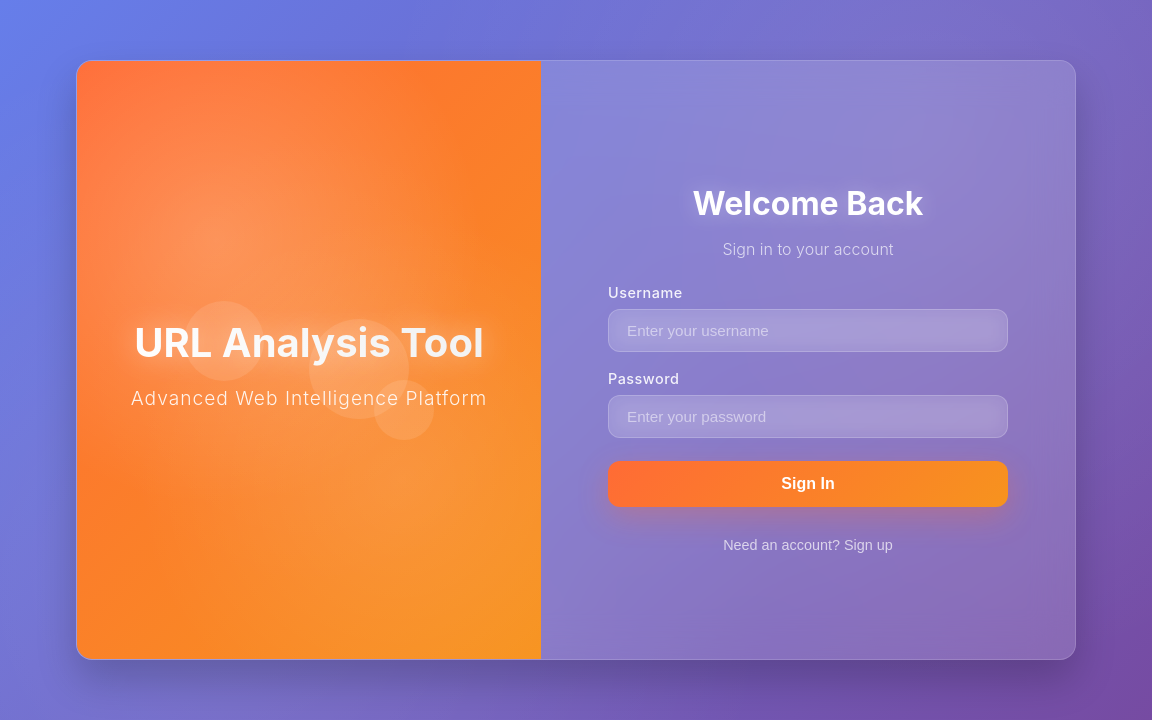
AuthForm › shows validation error for short password on register
Note: Switch to register form
Click the button "Need an account? Sign up". click: (808, 545)
box: [713, 527, 903, 563]
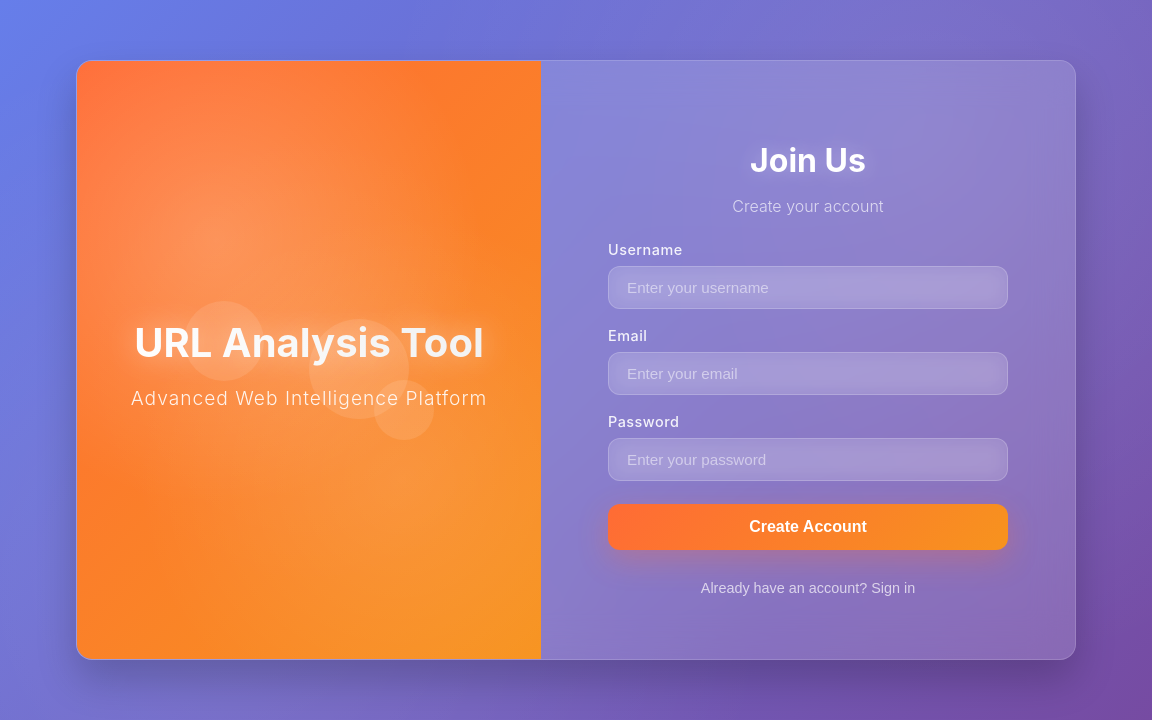
Type "testuser" into the field with placeholder "Enter your username". click: (808, 287)
box: [608, 266, 1008, 309]
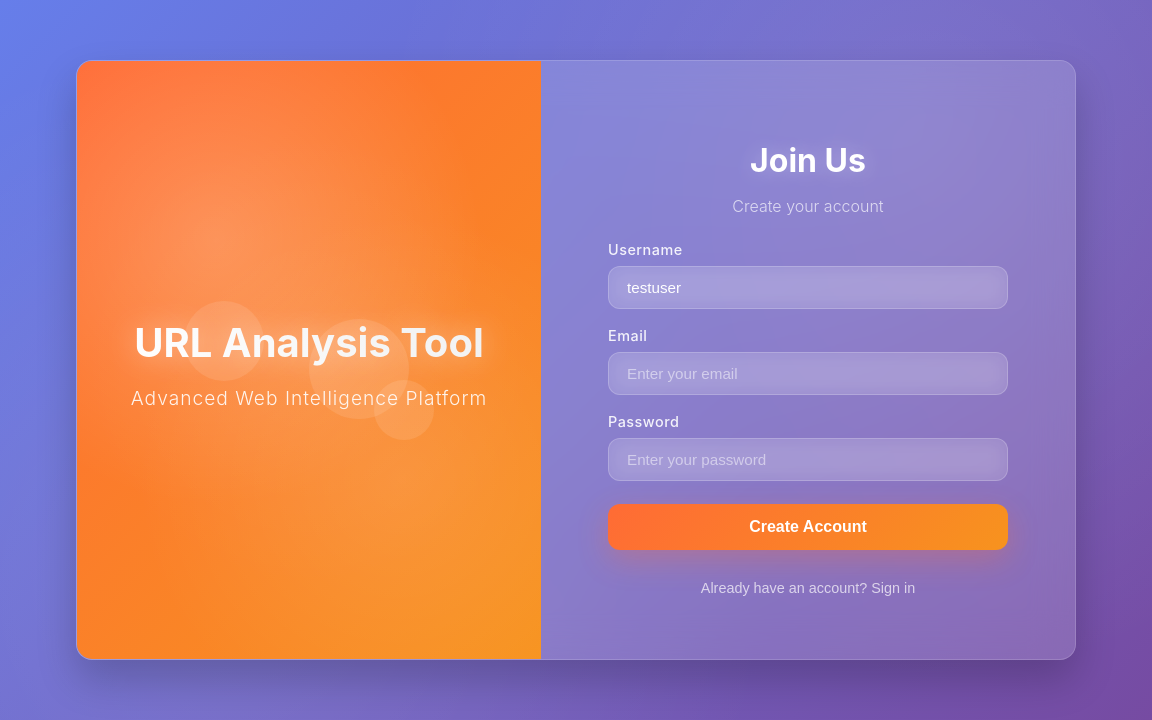
Type "test@example.com" into the field with placeholder "Enter your email". click: (808, 373)
box: [608, 352, 1008, 395]
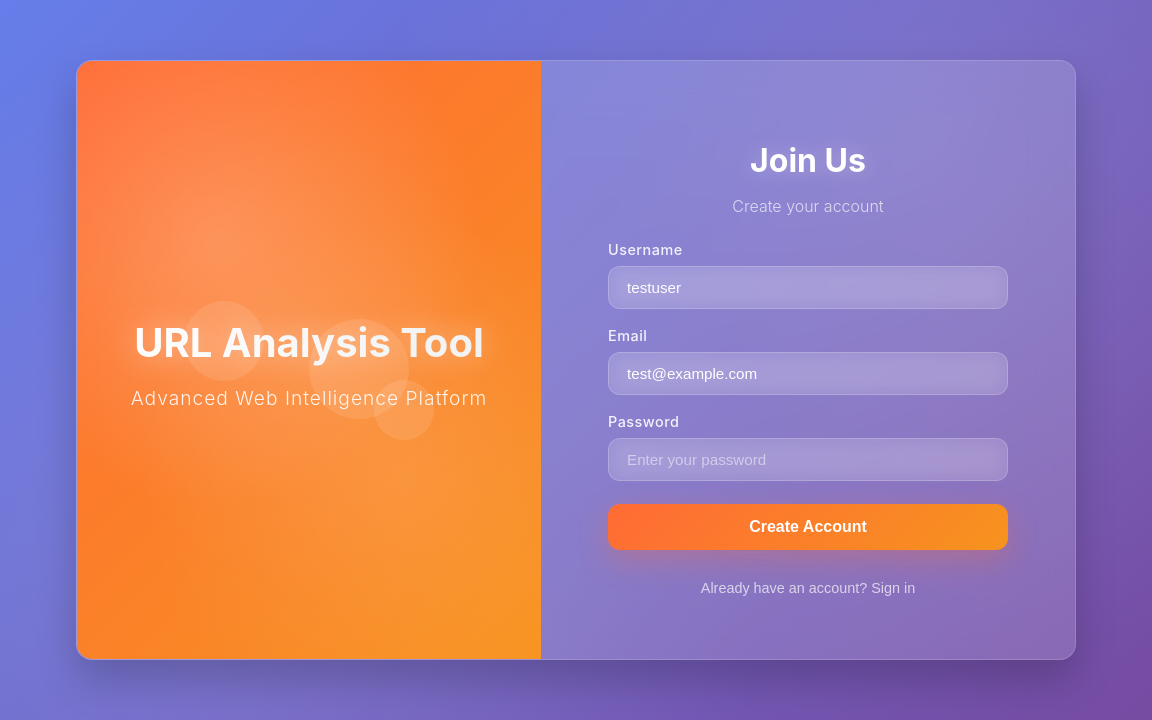
Type "123" into the password field with placeholder "Enter your password". click: (808, 459)
box: [608, 438, 1008, 481]
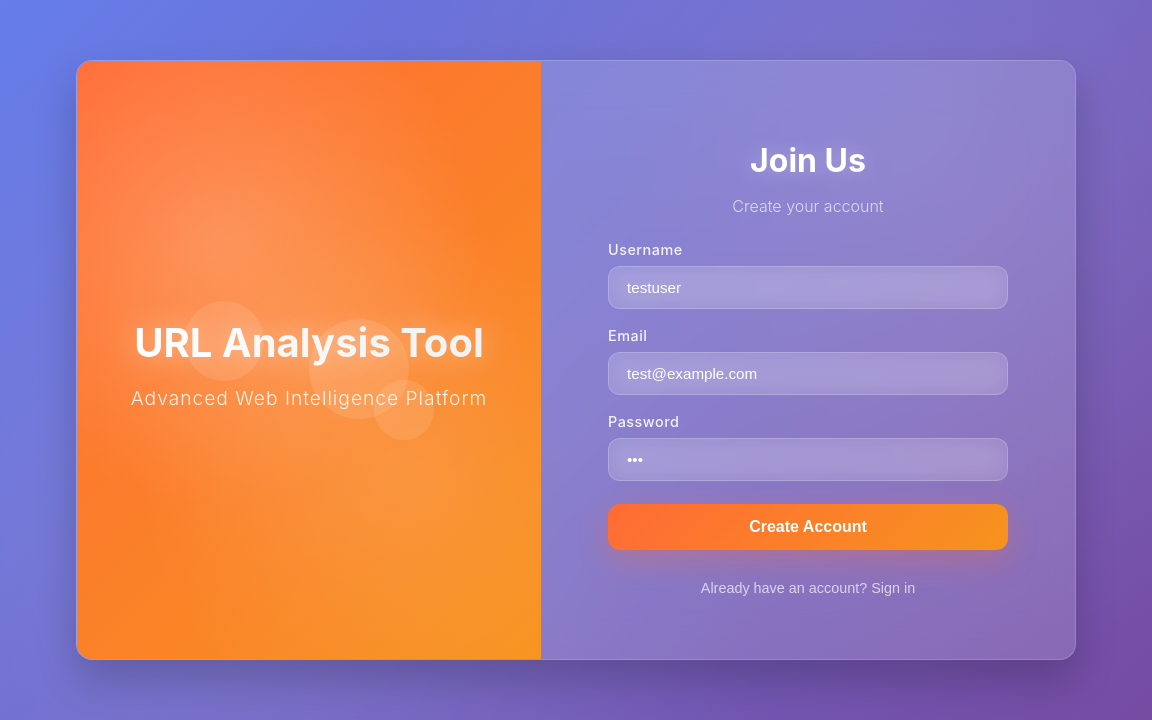
Click the button "Create Account". click: (808, 527)
box: [608, 504, 1008, 550]
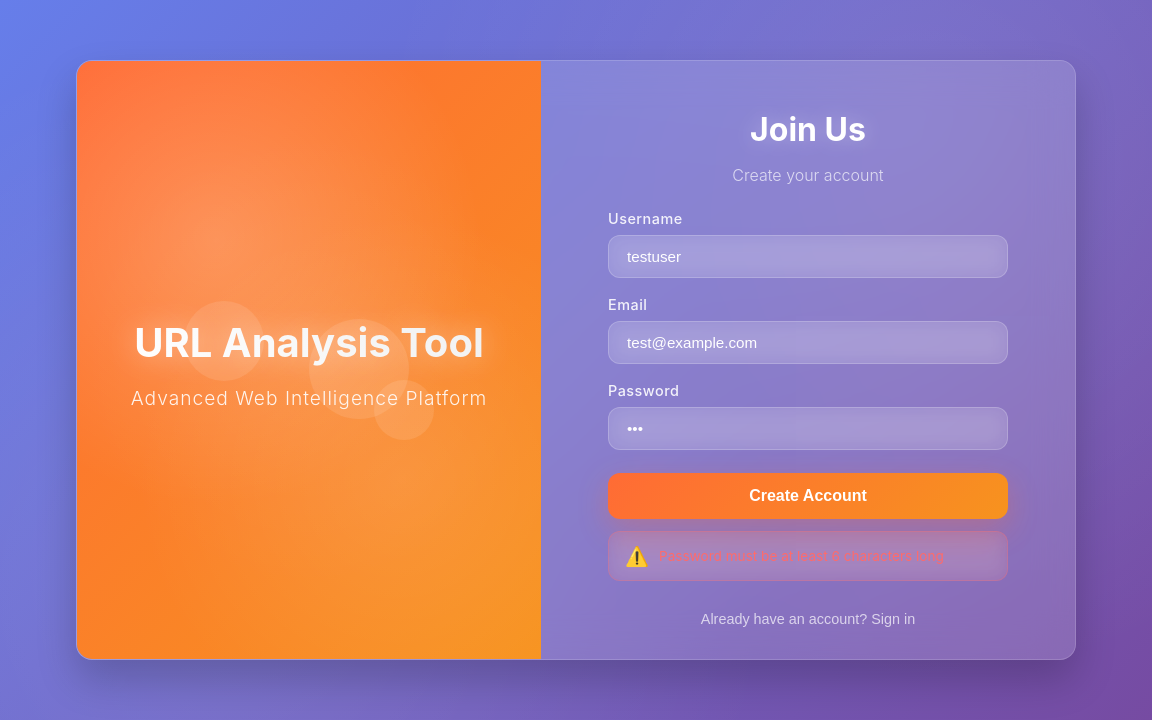
expect the text "Password must be at least 6 characters long" is shown: met, box [659, 548, 991, 564]
